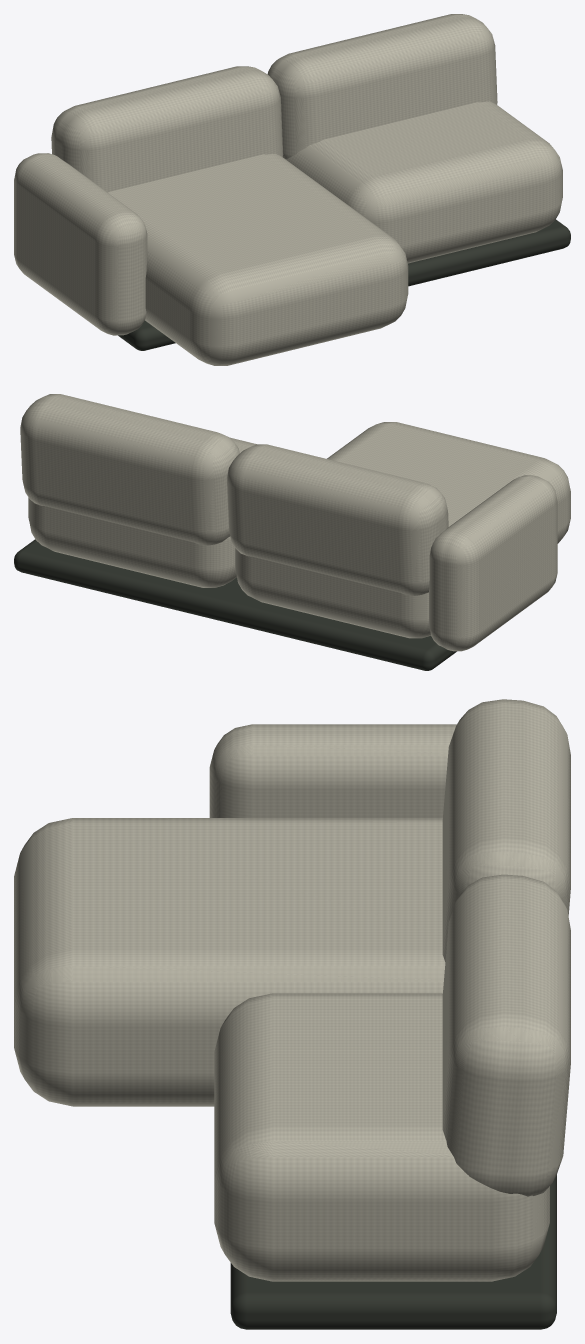
Rendered from reference.glb.
3 views of the same model, one above another, from view 1: azimuth 30°, elevation 25°; view 2: azimuth 150°, elevation 25°; view 3: azimuth 270°, elevation 25° (orthographic). The views are drawn at different scales.
Visible parts, largest first — view 1: Upholstered seat (×2), Back cushion (×2), Rolled end, Shadow plinth; view 2: Back cushion (×2), Upholstered seat (×2), Rolled end, Shadow plinth; view 3: Upholstered seat (×2), Back cushion (×2), Rolled end, Shadow plinth.
Part boxes in pixels (bbox=[...]): Upholstered seat (×2): bbox=[108, 101, 562, 365]; Back cushion (×2): bbox=[51, 14, 497, 192]; Rolled end: bbox=[14, 153, 147, 335]; Shadow plinth: bbox=[118, 219, 570, 350]; Back cushion (×2): bbox=[20, 394, 448, 595]; Upholstered seat (×2): bbox=[28, 422, 570, 638]; Rolled end: bbox=[429, 475, 557, 651]; Shadow plinth: bbox=[14, 539, 456, 670]; Upholstered seat (×2): bbox=[14, 818, 549, 1281]; Back cushion (×2): bbox=[442, 699, 570, 1196]; Rolled end: bbox=[209, 724, 456, 817]; Shadow plinth: bbox=[230, 1175, 556, 1329].
Size of the model in its own units: 1.97 by 0.7075 by 1.2.
2 materials, 1 textured.
